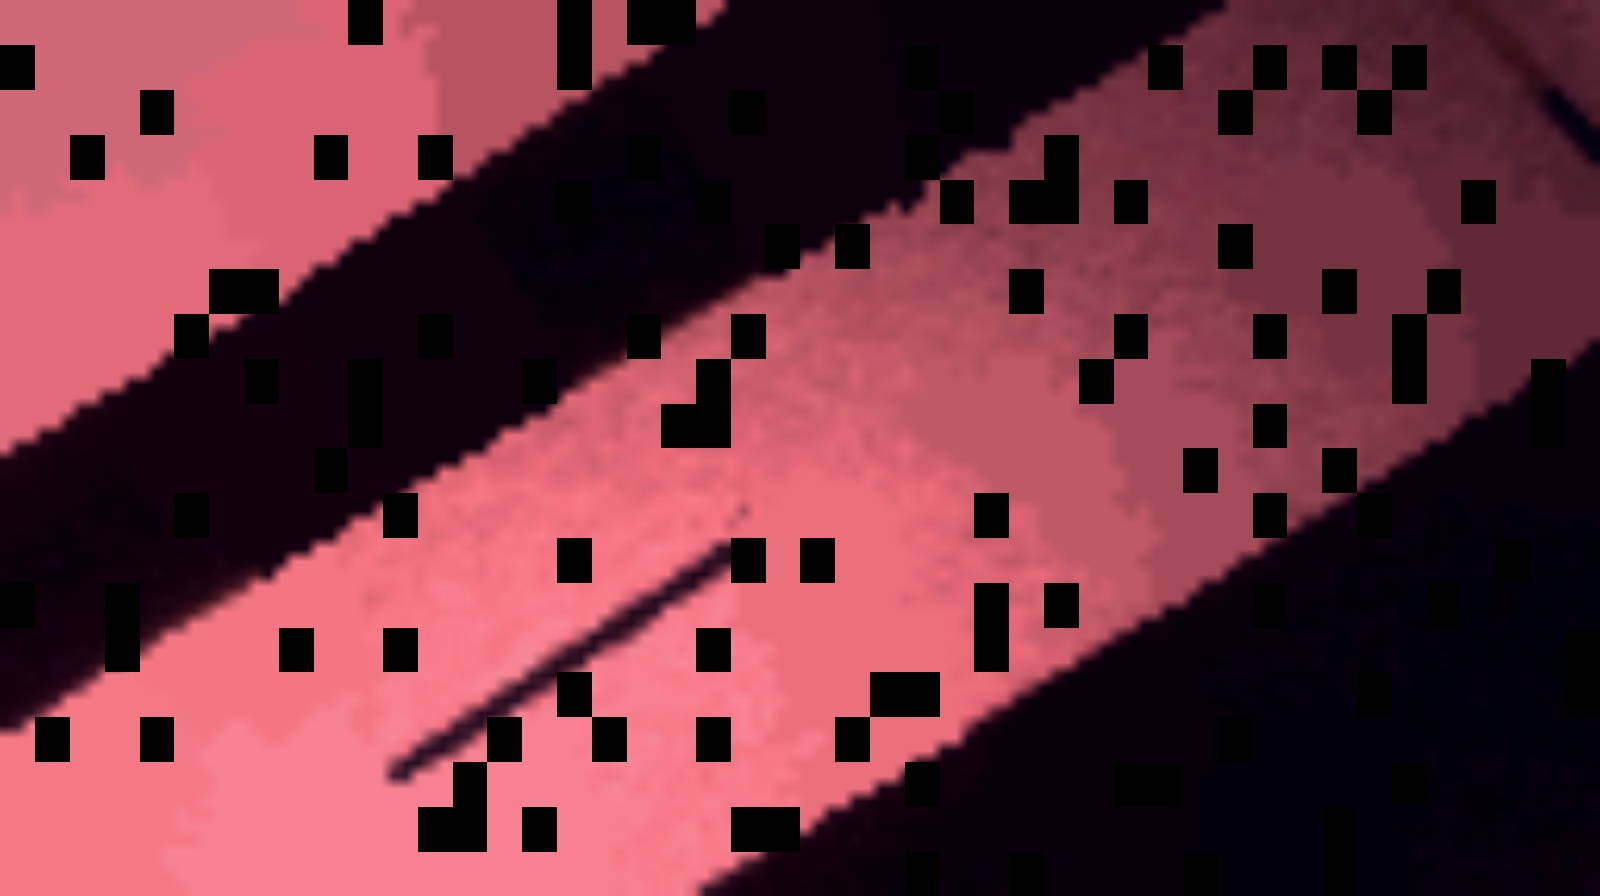S002: (330, 496, 810, 814)
